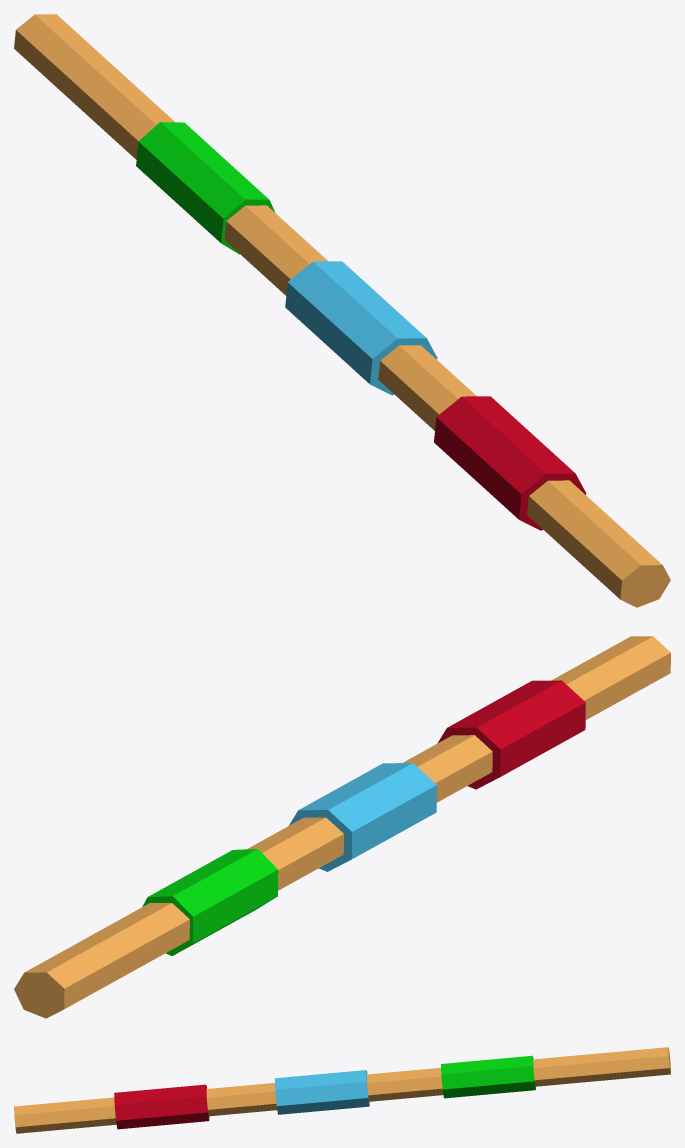
The model's file is blowgun.obj.
3 renders of one model, top to bottom at view 1: azimuth 30°, elevation 25°; view 2: azimuth 150°, elevation 25°; view 3: azimuth 270°, elevation 25°, orthographic. The views are drawn at different scales.
Parts seen in each view (by area): view 1: Cylinder.002_Cylinder.003; view 2: Cylinder.002_Cylinder.003; view 3: Cylinder.002_Cylinder.003.
Part boxes in pixels (x1,y1,x2,y2): Cylinder.002_Cylinder.003: (14,14,670,607); Cylinder.002_Cylinder.003: (14,636,670,1018); Cylinder.002_Cylinder.003: (14,1047,670,1133).
Bounding box in the file's own units: 1.2 × 2.57 × 18.54.
1 material, 1 textured.
